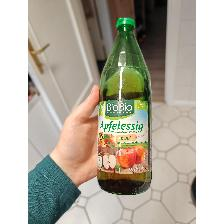Essig: (97, 16, 153, 196)
